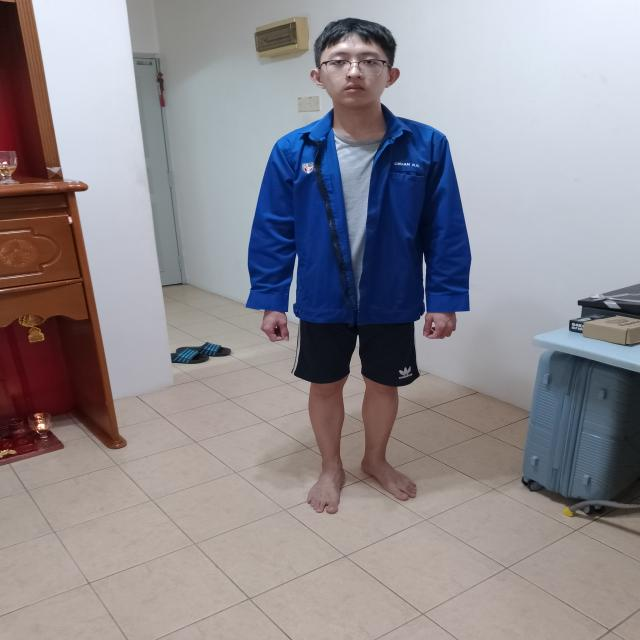person_with_labcoat: (247, 18, 470, 514)
